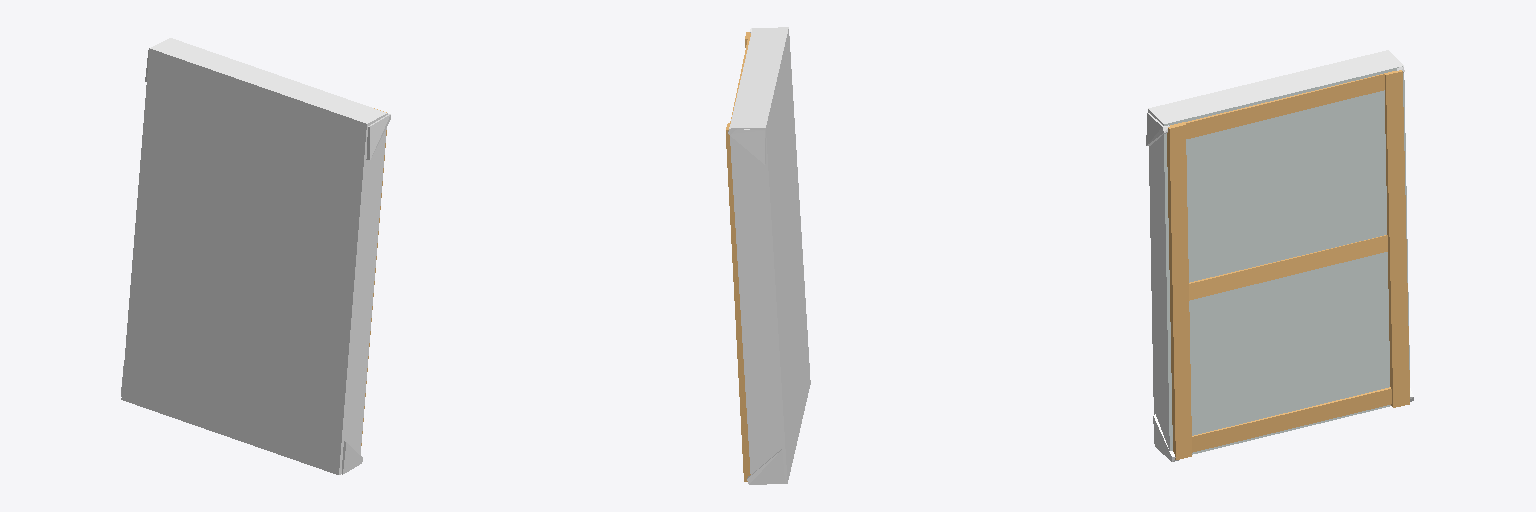
3 renders of one model, left to right at view 1: azimuth 30°, elevation 25°; view 2: azimuth 150°, elevation 25°; view 3: azimuth 270°, elevation 25°, orthographic.
Visible parts, largest first — view 1: group[number redacted], group[number redacted]; view 2: group[number redacted], group[number redacted], group[number redacted], group[number redacted]; view 3: group[number redacted], group[number redacted], group[number redacted], group[number redacted], group[number redacted], group[number redacted].
Boxes of the visible parts, x1=… form: group[number redacted]: x1=121, y1=38, x2=387, y2=474; group[number redacted]: x1=366, y1=114, x2=390, y2=159; group[number redacted]: x1=729, y1=27, x2=810, y2=484; group[number redacted]: x1=726, y1=123, x2=750, y2=481; group[number redacted]: x1=747, y1=449, x2=784, y2=484; group[number redacted]: x1=728, y1=127, x2=765, y2=164; group[number redacted]: x1=1148, y1=50, x2=1409, y2=454; group[number redacted]: x1=1167, y1=122, x2=1191, y2=459; group[number redacted]: x1=1384, y1=70, x2=1409, y2=407; group[number redacted]: x1=1189, y1=235, x2=1387, y2=300; group[number redacted]: x1=1184, y1=74, x2=1384, y2=138; group[number redacted]: x1=1192, y1=387, x2=1391, y2=452.
Size of the model in its own units: 0.3888 by 0.8701 by 0.5836.